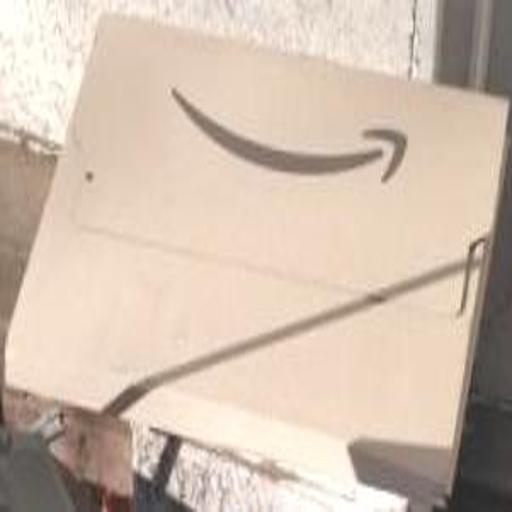Amazon: (65, 16, 462, 487)
